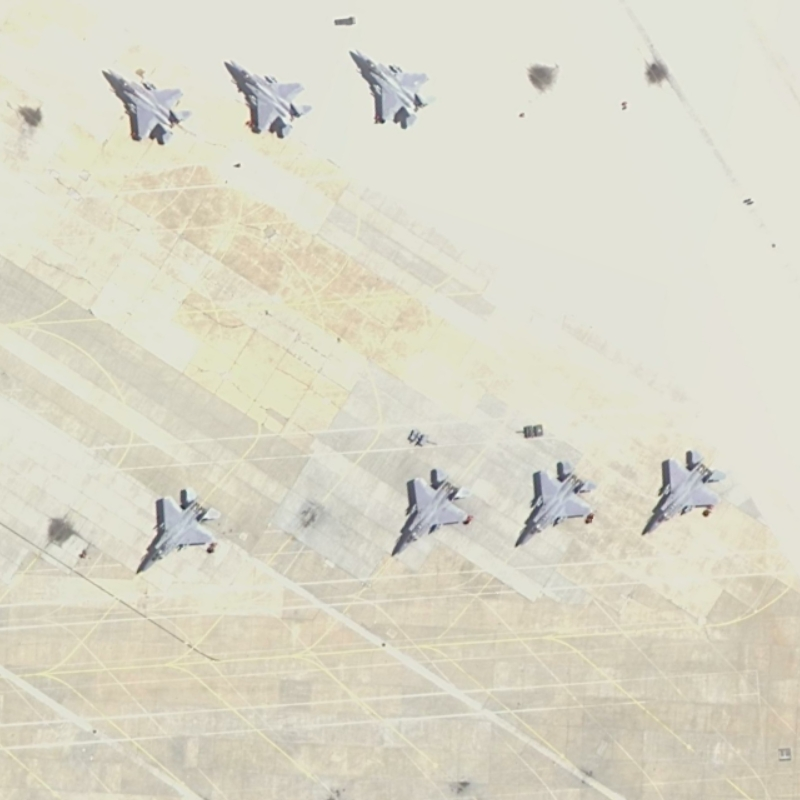A13: (96, 57, 197, 150), (132, 481, 223, 581), (224, 52, 321, 144), (507, 456, 602, 549), (636, 444, 728, 540), (388, 464, 479, 561), (349, 41, 443, 134)
